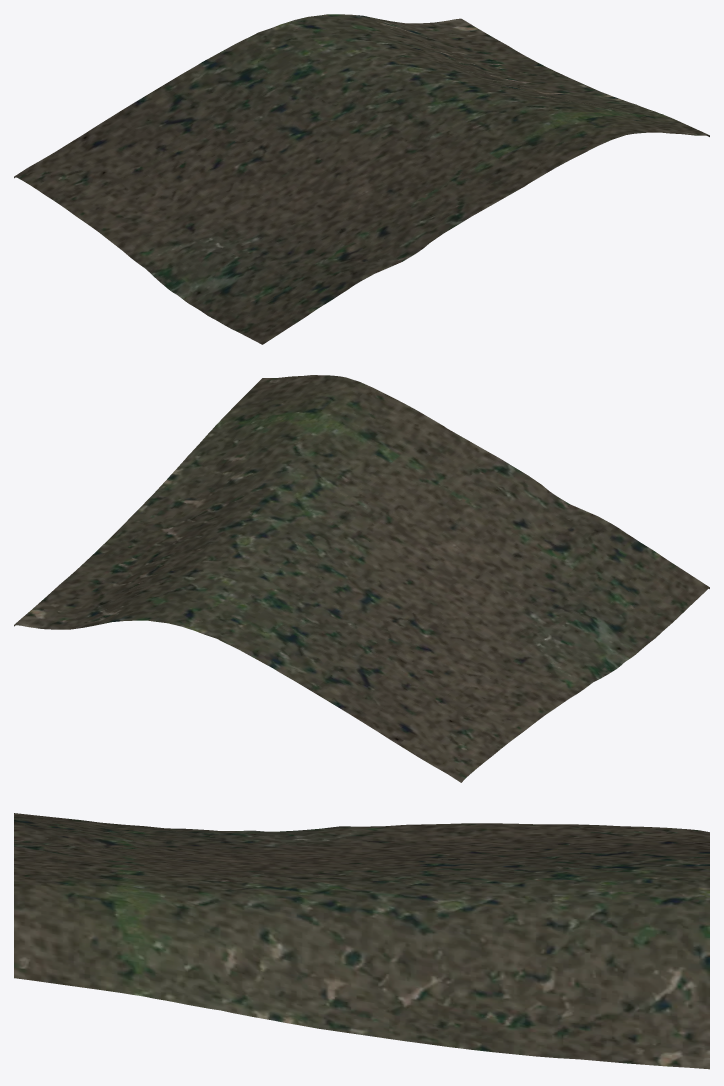
The picture shows the model from 3 angles, top to bottom: view 1: azimuth 30°, elevation 25°; view 2: azimuth 150°, elevation 25°; view 3: azimuth 270°, elevation 25°; orthographic projection. The views are drawn at different scales.
Bounding box in the file's own units: 250 × 72.99 × 241.
Materials: 1 (1 with a texture image).
